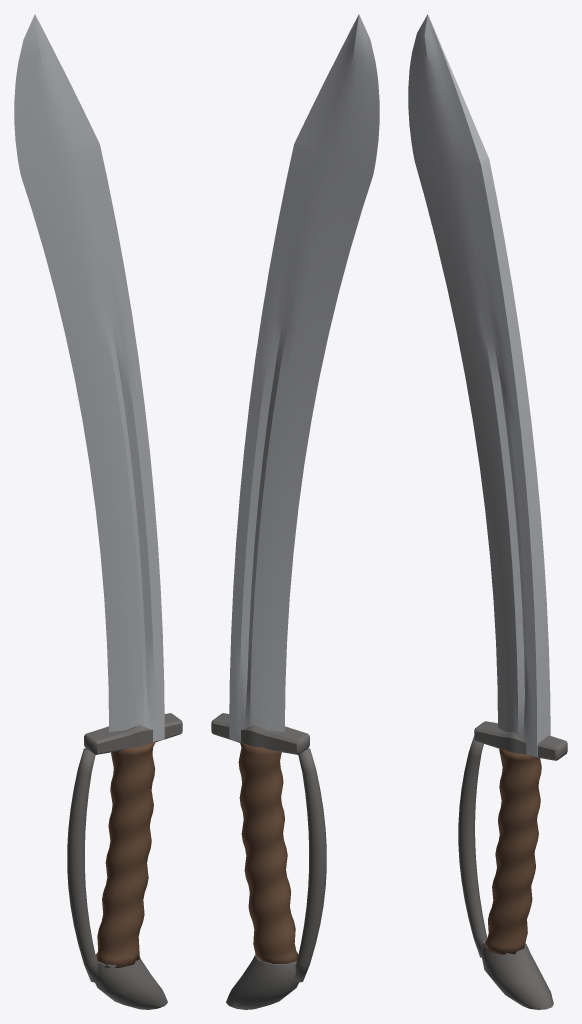
The model's file is falcata.glb.
3 renders of one model, left to right at view 1: azimuth 30°, elevation 25°; view 2: azimuth 150°, elevation 25°; view 3: azimuth 330°, elevation 25°, orthographic. The views are drawn at different scales.
Visible parts, largest first — view 1: falcata; view 2: falcata; view 3: falcata.
Part boxes in pixels (x1,y1,x2,y2): falcata: (14, 14, 182, 1009); falcata: (211, 14, 379, 1009); falcata: (408, 14, 567, 1009).
Size of the model in its own units: 0.2889 by 1.71 by 0.0774.
